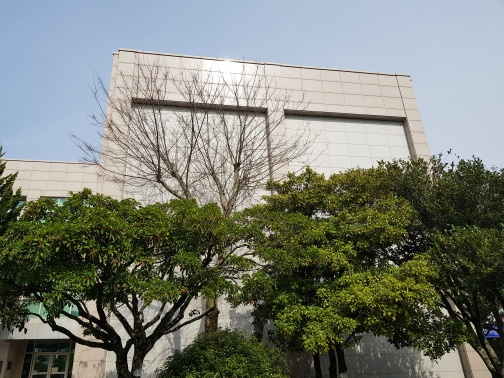College of Nursing: (97, 34, 438, 200)
